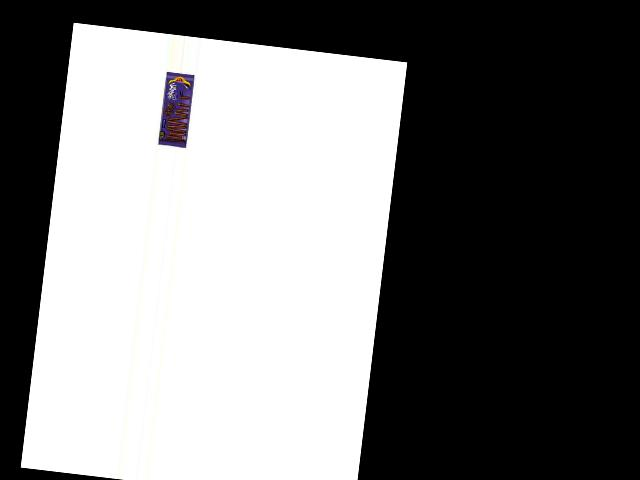chocolate: (157, 70, 198, 149)
